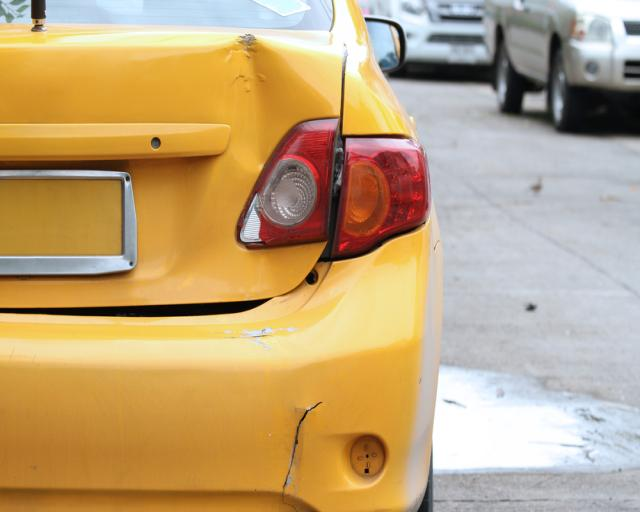crack: (282, 401, 334, 512)
dent: (211, 36, 334, 170)
lamp broken: (237, 116, 341, 247)
